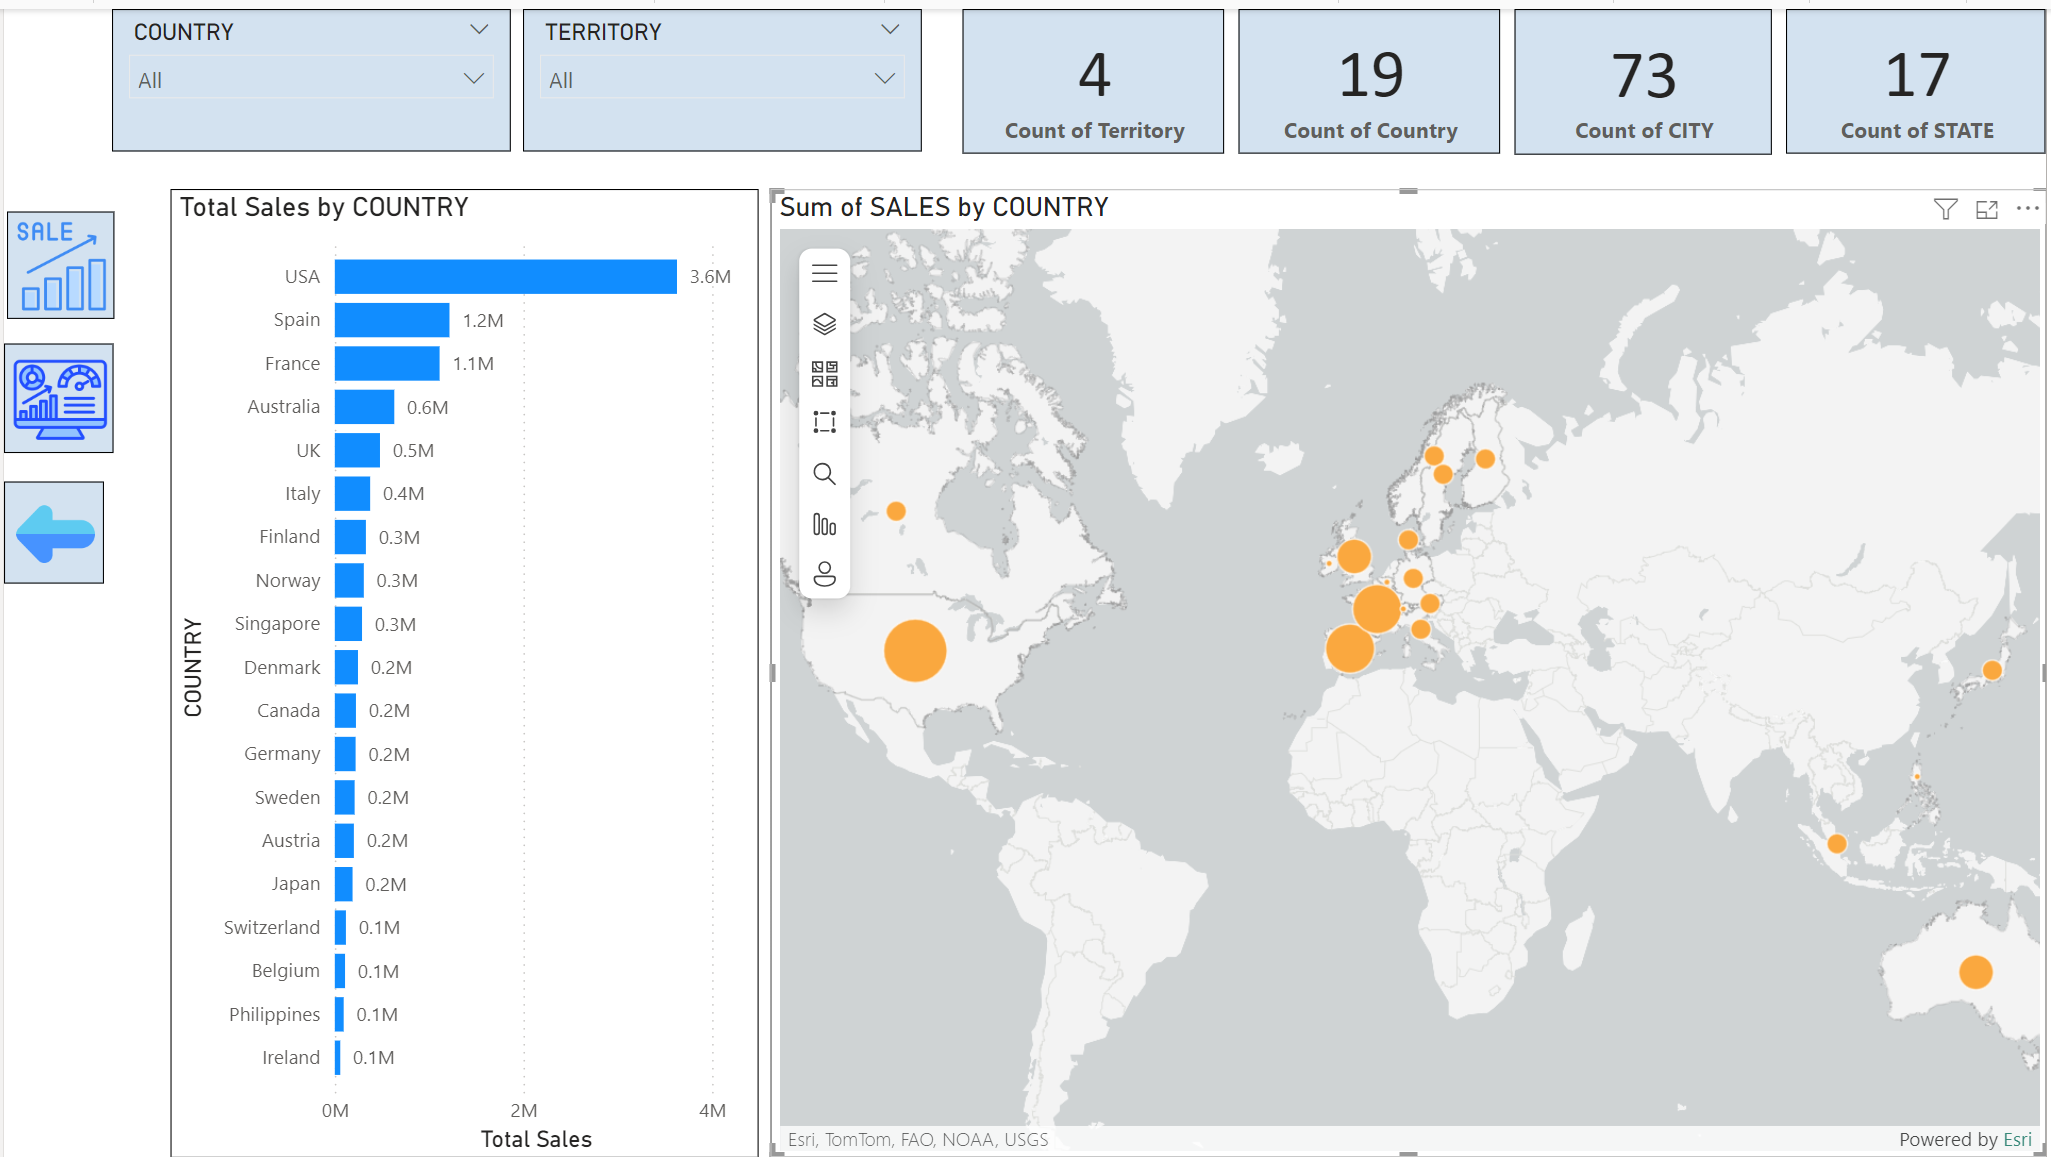

Layout of this report page (visuals, bound fields, positions):
{"tool":"powerbi","page":{"name":"Map","canvas":[1280,720],"ordinal":2},"visuals":[{"type":"esriVisual","fields":{"Location":["DimCountry.COUNTRY"],"Size":["Sum(Fact_Table.SALES)"]},"box":[480.8,112.5,799.8,607.1],"z":0},{"type":"clusteredBarChart","fields":{"Category":["DimCountry.COUNTRY"],"Y":["Sum(Fact_Table.SALES)"]},"box":[103.9,112.6,368.7,607.4],"z":1000},{"type":"image","box":[1.5,126.8,67.2,67.2],"z":2000},{"type":"image","box":[0,209.3,68.8,68.8],"z":3000},{"type":"image","box":[0,296.1,62.8,64.1],"z":4000},{"type":"card","fields":{"Values":["Count(DimCountry.TERRITORY)"]},"box":[600.9,0,164,91],"z":5000},{"type":"card","fields":{"Values":["Count(DimCountry.COUNTRY)"]},"box":[773.8,0,164,91],"z":6000},{"type":"card","fields":{"Values":["Count(DimCUSTOMER.CITY)"]},"box":[946.8,0,161.1,91.7],"z":7000},{"type":"card","fields":{"Values":["Count(DimCUSTOMER.STATE)"]},"box":[1116.8,0,162.8,91],"z":8000},{"type":"slicer","fields":{"Values":["DimCountry.TERRITORY"]},"box":[325.2,0,249.9,89.5],"z":9000},{"type":"slicer","fields":{"Values":["DimCountry.COUNTRY"]},"box":[68.2,0,249.9,89.5],"z":10000}]}

Visuals, with their boxes in screenshot pixels (x1, y1, x2, y2), scaled from the page's 1280x720 canvas onto the 2051x1157 screenshot:
esriVisual - DimCountry.COUNTRY x Sum(Fact_Table.SALES): box(770, 181, 2050, 1156)
clusteredBarChart - DimCountry.COUNTRY x Sum(Fact_Table.SALES): box(166, 181, 757, 1156)
image: box(2, 204, 110, 312)
image: box(0, 336, 110, 447)
image: box(0, 476, 101, 579)
card - Count(DimCountry.TERRITORY): box(963, 0, 1226, 146)
card - Count(DimCountry.COUNTRY): box(1240, 0, 1503, 146)
card - Count(DimCUSTOMER.CITY): box(1517, 0, 1775, 147)
card - Count(DimCUSTOMER.STATE): box(1789, 0, 2050, 146)
slicer - DimCountry.TERRITORY: box(521, 0, 922, 144)
slicer - DimCountry.COUNTRY: box(109, 0, 510, 144)
